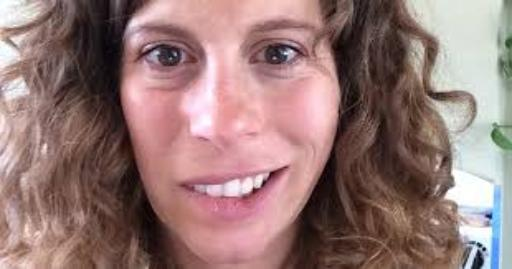left_eye: (253, 44, 310, 68)
left_lip_corner: (272, 163, 297, 176)
right_eye: (138, 46, 195, 68)
right_lip_corner: (170, 178, 195, 194)
